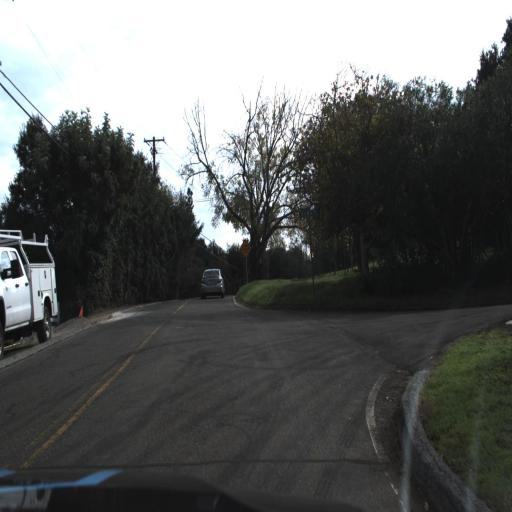car: (197, 265, 224, 301)
